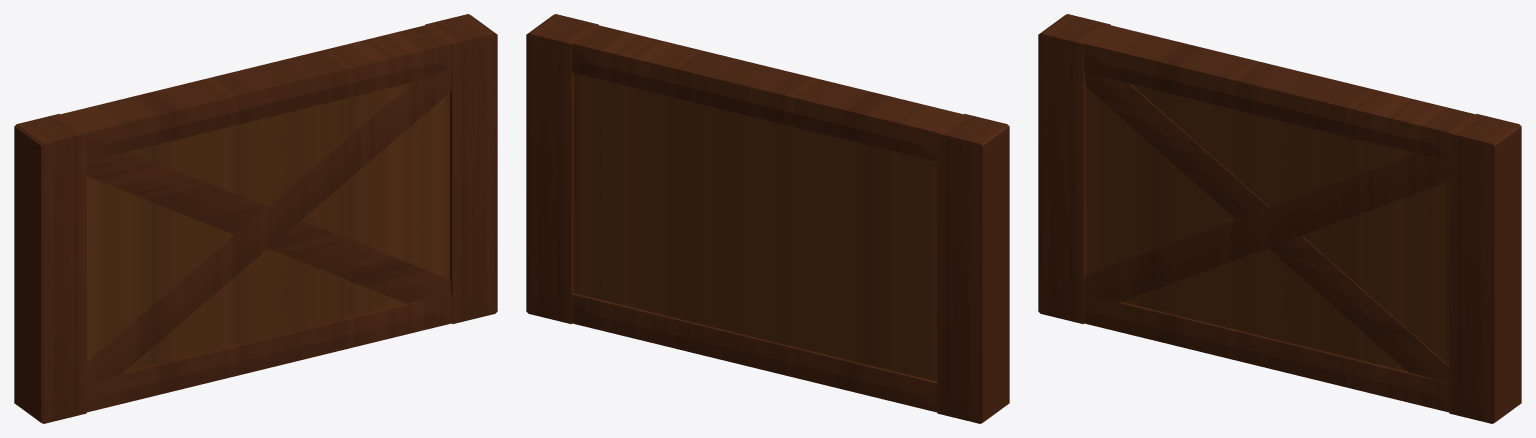
Rendered from Half_Wall_X_Wood.fbx.
The picture shows the model from 3 angles, left to right: view 1: azimuth 30°, elevation 25°; view 2: azimuth 150°, elevation 25°; view 3: azimuth 330°, elevation 25°; orthographic projection.
Visible parts, largest first — view 1: Half_Wall_X_Wood; view 2: Half_Wall_X_Wood; view 3: Half_Wall_X_Wood.
Boxes of the visible parts, x1,y1,x2,y2 form: Half_Wall_X_Wood: (14, 14, 497, 423); Half_Wall_X_Wood: (526, 14, 1009, 423); Half_Wall_X_Wood: (1038, 14, 1521, 423).
Bounding box in the file's own units: 212 × 124 × 23.4.
